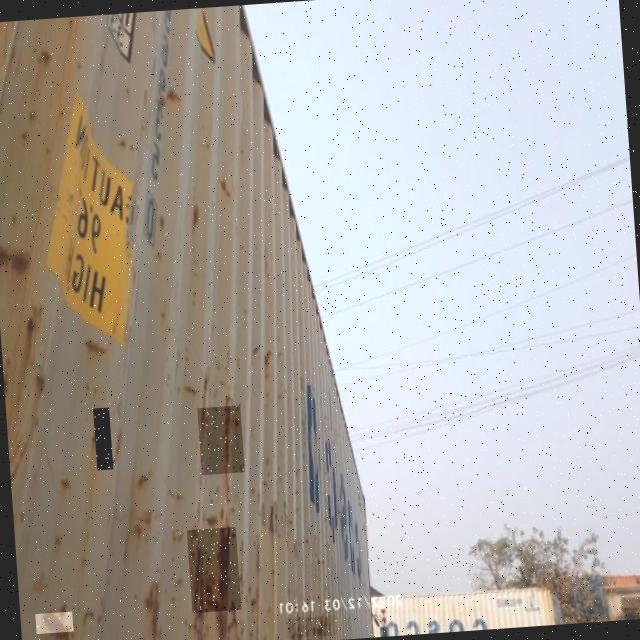rust: (187, 528, 242, 614), (198, 406, 246, 476), (94, 408, 114, 471), (286, 616, 338, 640), (36, 613, 75, 638)
